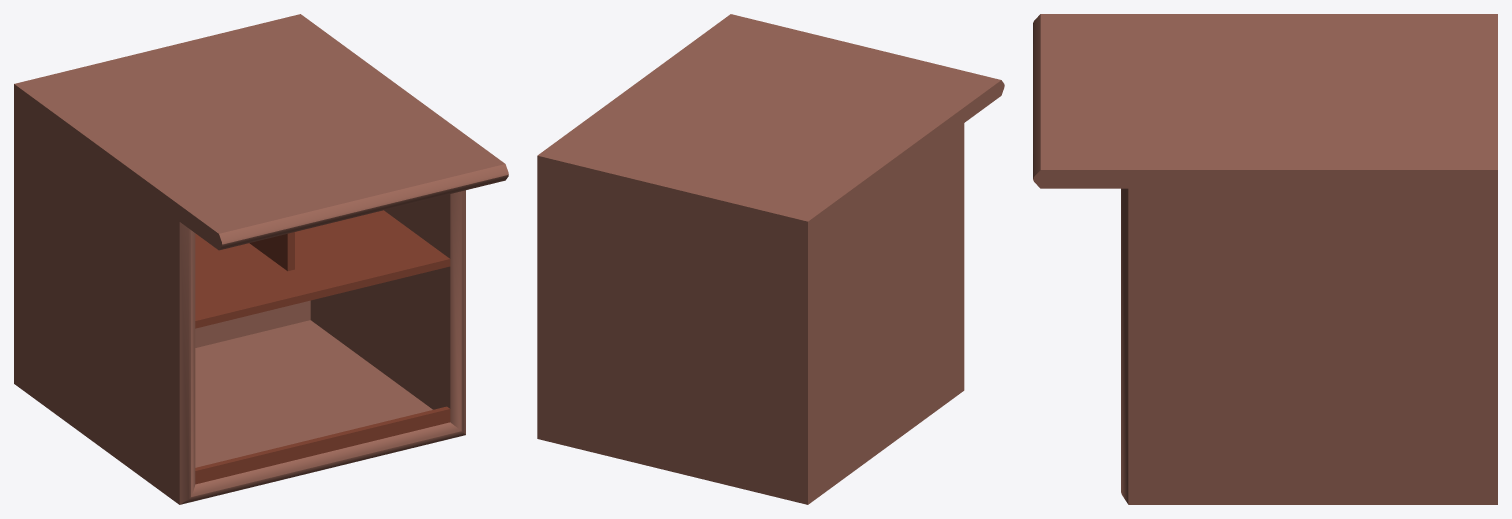
The model's file is foot shelf.fbx.
3 views of the same model, side by side, from view 1: azimuth 30°, elevation 25°; view 2: azimuth 150°, elevation 25°; view 3: azimuth 270°, elevation 25° (orthographic). The views are drawn at different scales.
Parts seen in each view (by area): view 1: Cube.006; view 2: Cube.006; view 3: Cube.006.
Part boxes in pixels (x1,y1,x2,y2): Cube.006: (14,14,508,504); Cube.006: (537,14,1004,504); Cube.006: (1033,14,1497,504).
Size of the model in its own units: 400 by 400 by 503.
